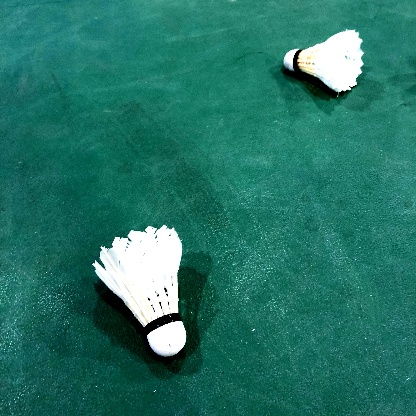ball_single: (92, 225, 186, 357), (283, 30, 364, 92)
